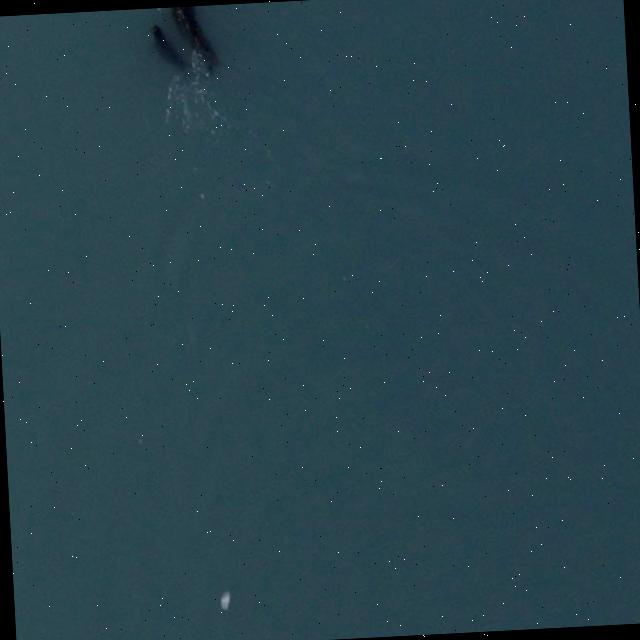seal: (141, 22, 192, 78)
